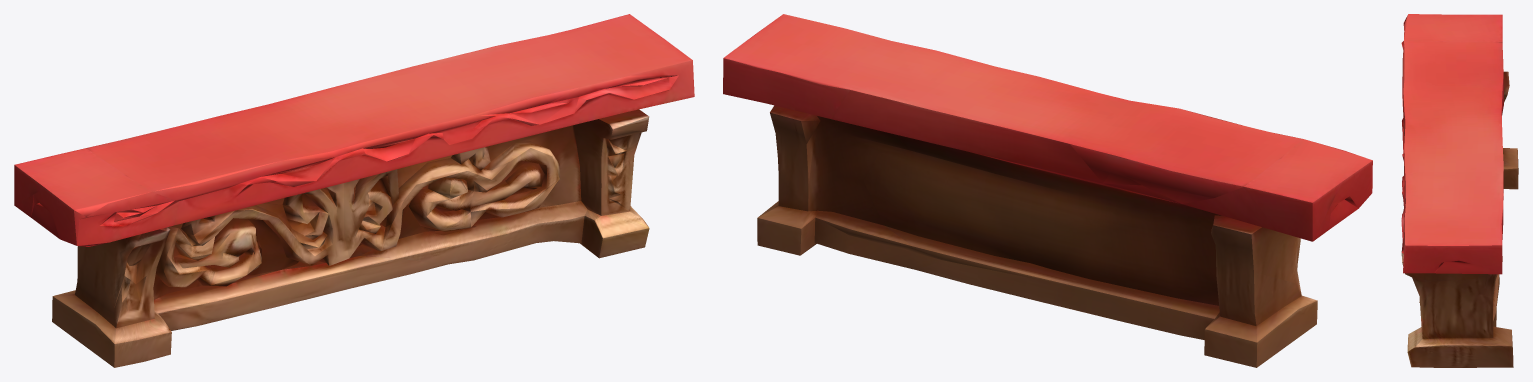
Rendered from m2TempleBeam.glb.
3 renders of one model, left to right at view 1: azimuth 30°, elevation 25°; view 2: azimuth 150°, elevation 25°; view 3: azimuth 270°, elevation 25°, orthographic. The views are drawn at different scales.
Visible parts, largest first — view 1: model; view 2: model; view 3: model.
Boxes of the visible parts, x1,y1,x2,y2 form: model: [14, 14, 694, 367]; model: [723, 14, 1372, 367]; model: [1401, 14, 1518, 367].
Size of the model in its own units: 1.9 by 0.533 by 0.4048.
Materials: 1 (1 with a texture image).
